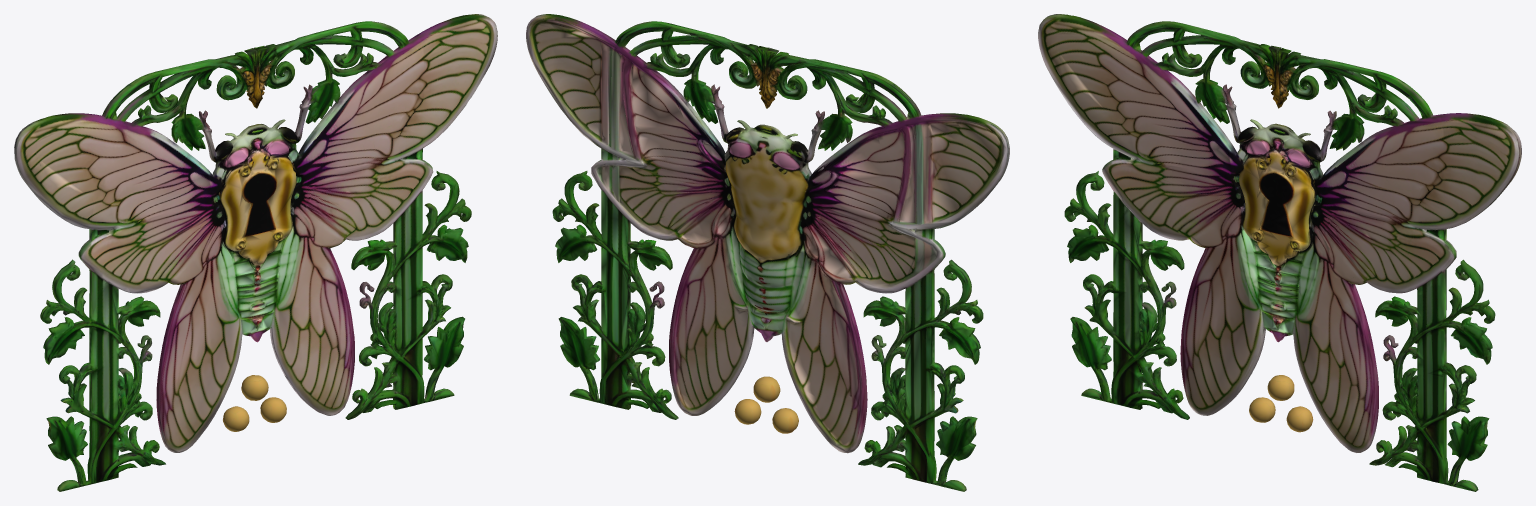
Rendered from cicada_web.glb.
The picture shows the model from 3 angles, left to right: view 1: azimuth 30°, elevation 25°; view 2: azimuth 150°, elevation 25°; view 3: azimuth 330°, elevation 25°; orthographic projection.
Parts seen in each view (by area): view 1: material; view 2: material; view 3: material.
Boxes of the visible parts, bbox=[...] form: material: bbox=[14, 14, 497, 491]; material: bbox=[526, 14, 1009, 491]; material: bbox=[1038, 14, 1521, 491].
Size of the model in its own units: 1.01 by 0.79 by 0.0488.
Materials: 1 (1 with a texture image).
